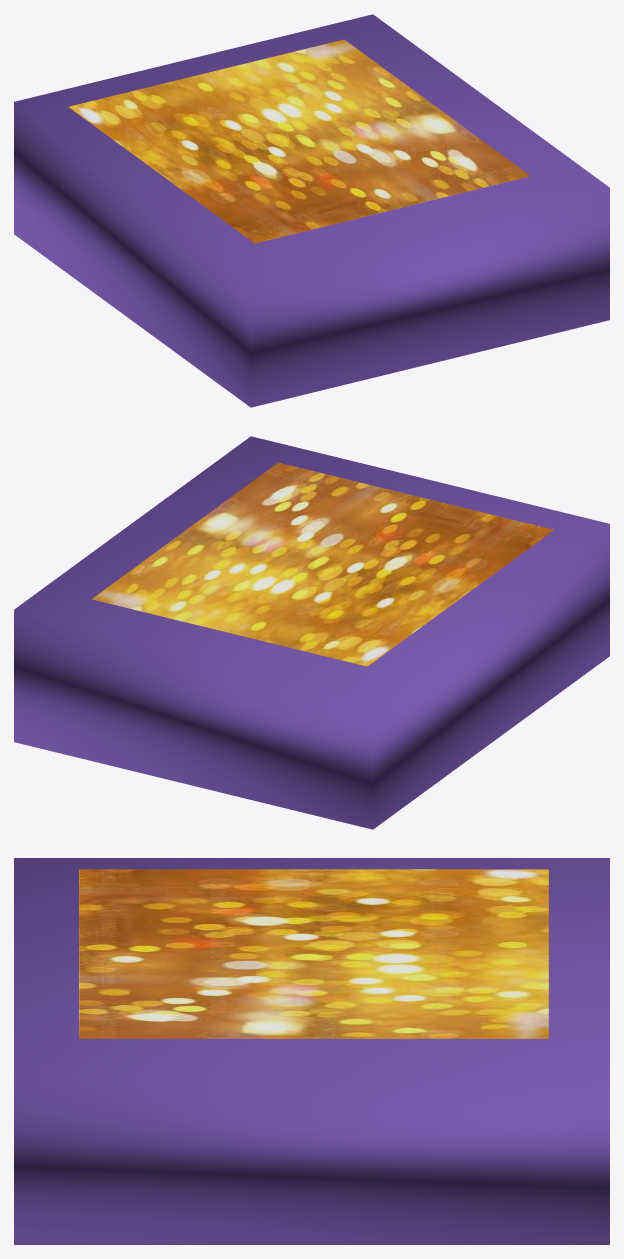
File: gravedad.fbx
3 views of the same model, one above another, from view 1: azimuth 30°, elevation 25°; view 2: azimuth 150°, elevation 25°; view 3: azimuth 270°, elevation 25° (orthographic). The views are drawn at different scales.
Visible parts, largest first — view 1: pasted__polySurface2, pPlane1; view 2: pasted__polySurface2, pPlane1; view 3: pasted__polySurface2, pPlane1.
Boxes of the visible parts, x1,y1,x2,y2 form: pasted__polySurface2: (14, 14, 609, 407); pPlane1: (68, 39, 530, 243); pasted__polySurface2: (14, 436, 609, 829); pPlane1: (92, 462, 553, 666); pasted__polySurface2: (14, 858, 609, 1244); pPlane1: (79, 869, 548, 1038).
Size of the model in its own units: 46.56 by 17.09 by 53.22.
